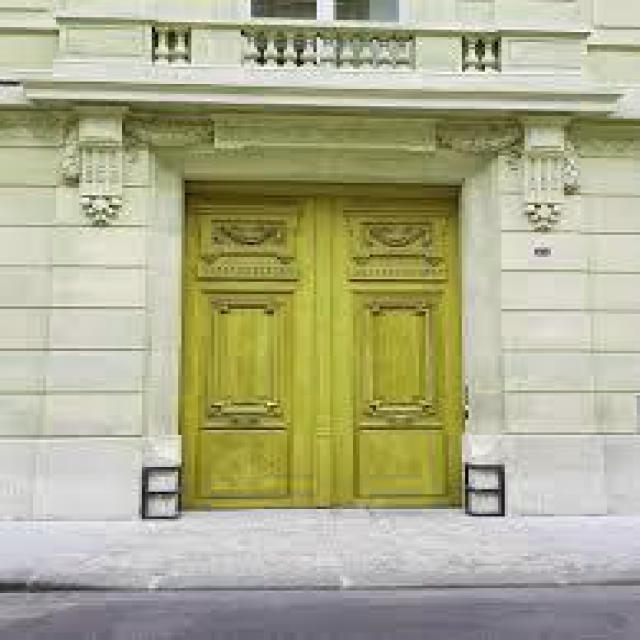door: (177, 182, 321, 508), (322, 181, 464, 508)
